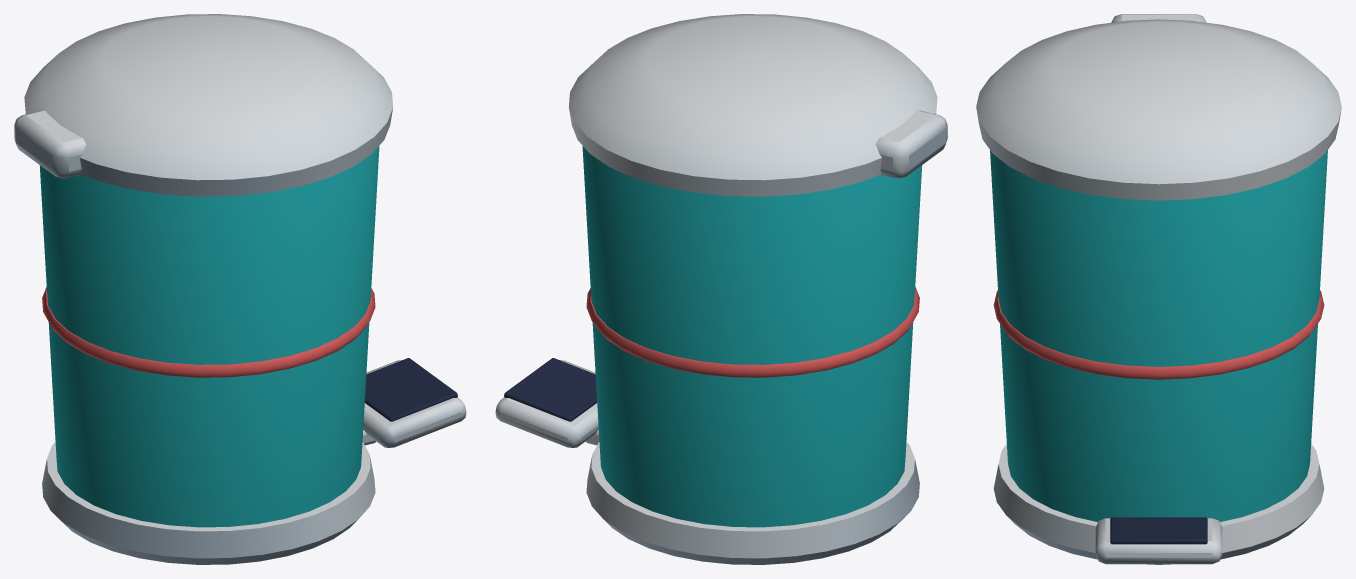
Rendered from trash_bin.glb.
3 views of the same model, side by side, from view 1: azimuth 30°, elevation 25°; view 2: azimuth 150°, elevation 25°; view 3: azimuth 270°, elevation 25° (orthographic).
Visible parts, largest first — view 1: TrashBin; view 2: TrashBin; view 3: TrashBin.
Boxes of the visible parts, x1=… form: TrashBin: x1=14, y1=14, x2=466, y2=564; TrashBin: x1=495, y1=14, x2=947, y2=564; TrashBin: x1=976, y1=14, x2=1341, y2=564.
Size of the model in its own units: 0.4749 by 0.497 by 0.376.
